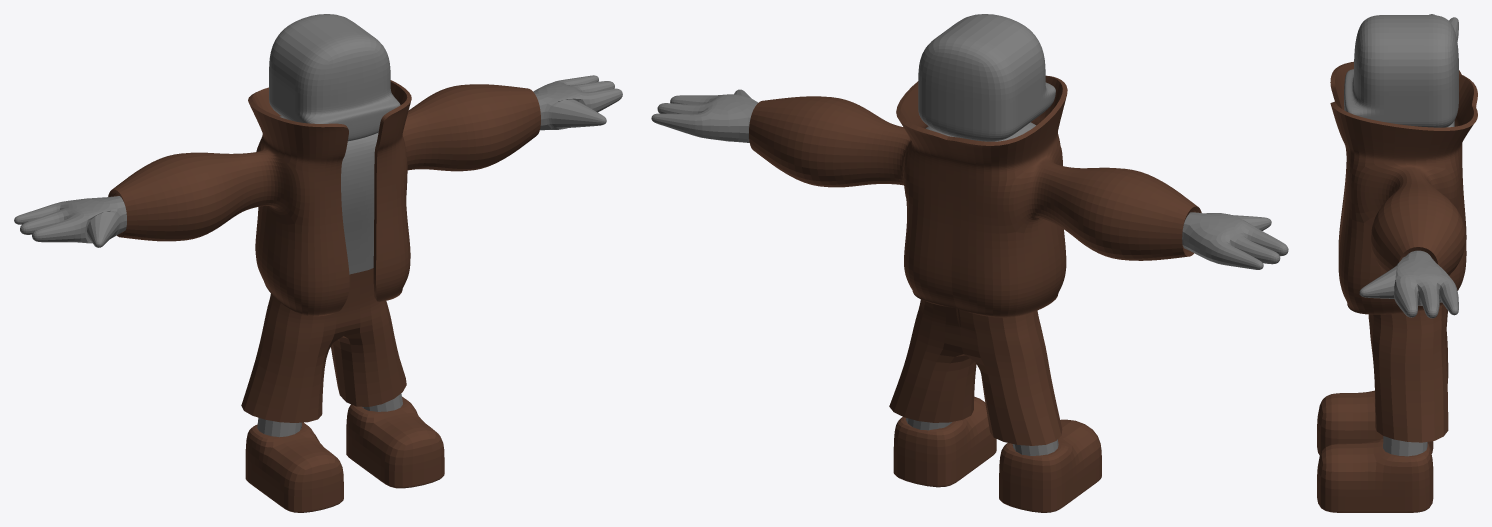
File: Buck.glb
The picture shows the model from 3 angles, left to right: view 1: azimuth 30°, elevation 25°; view 2: azimuth 150°, elevation 25°; view 3: azimuth 270°, elevation 25°; orthographic projection. The views are drawn at different scales.
Visible parts, largest first — view 1: Cube.002, Plane.001, Cube.003, Cube, Plane.002, Cube.001, Plane; view 2: Cube.002, Plane.001, Cube, Cube.003, Plane.002, Plane; view 3: Cube.002, Cube, Cube.003, Plane.001, Plane.002, Plane.
Boxes of the visible parts, left/top/right/bottom form: Cube.002: left=108, top=80, right=540, bottom=316; Plane.001: left=241, top=268, right=406, bottom=422; Cube.003: left=245, top=396, right=444, bottom=512; Cube: left=269, top=14, right=400, bottom=141; Plane.002: left=14, top=75, right=622, bottom=247; Cube.001: left=279, top=116, right=378, bottom=274; Plane: left=257, top=393, right=402, bottom=437; Cube.002: left=749, top=75, right=1201, bottom=317; Plane.001: left=889, top=299, right=1062, bottom=445; Cube: left=918, top=14, right=1055, bottom=141; Cube.003: left=893, top=396, right=1101, bottom=512; Plane.002: left=651, top=89, right=1288, bottom=269; Plane: left=906, top=418, right=1058, bottom=455; Cube.002: left=1330, top=61, right=1477, bottom=314; Cube: left=1344, top=15, right=1458, bottom=127; Cube.003: left=1317, top=390, right=1433, bottom=512; Plane.001: left=1368, top=305, right=1448, bottom=442; Plane.002: left=1359, top=14, right=1458, bottom=318; Plane: left=1383, top=436, right=1427, bottom=456.
Size of the model in its own units: 2.23 by 1.58 by 0.5091.
